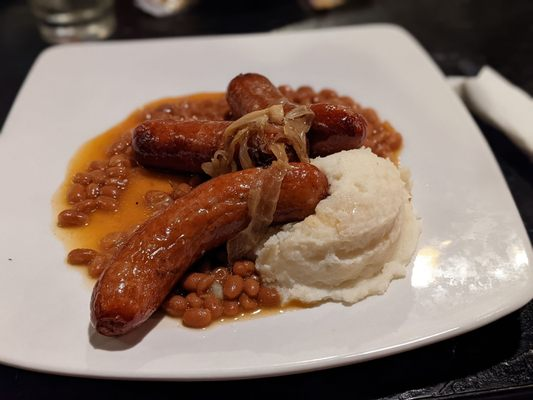pizza: (24, 0, 118, 44)
